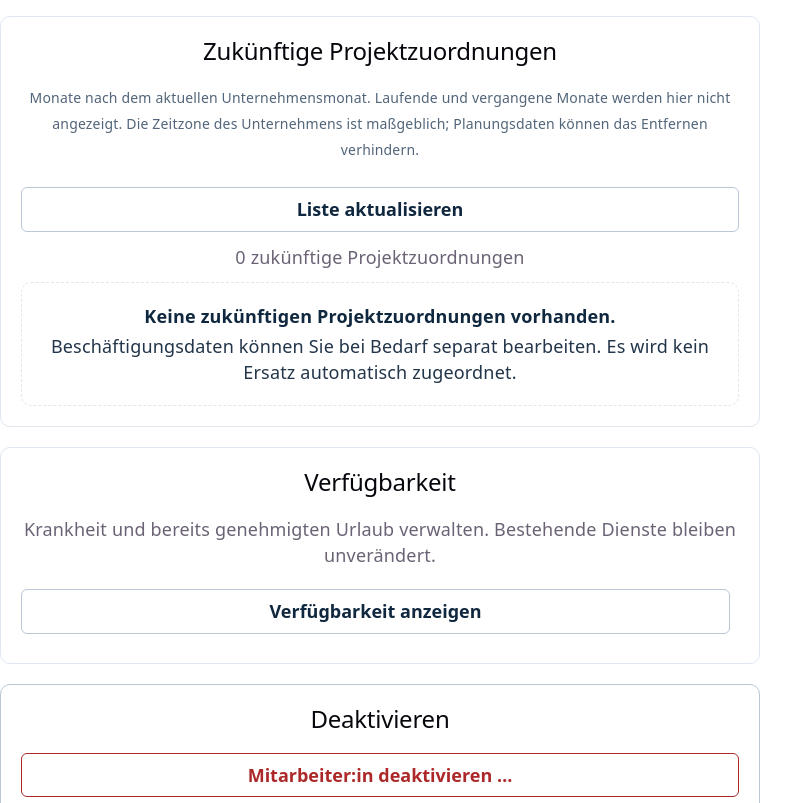
SP-07 — employee detail › confirmed deactivation updates the status, removes the action and moves focus to the result
(page scrolled)
Click the button "Mitarbeiter:in deaktivieren …": {"x": 380, "y": 775} [21,753,739,797]
(page scrolled)
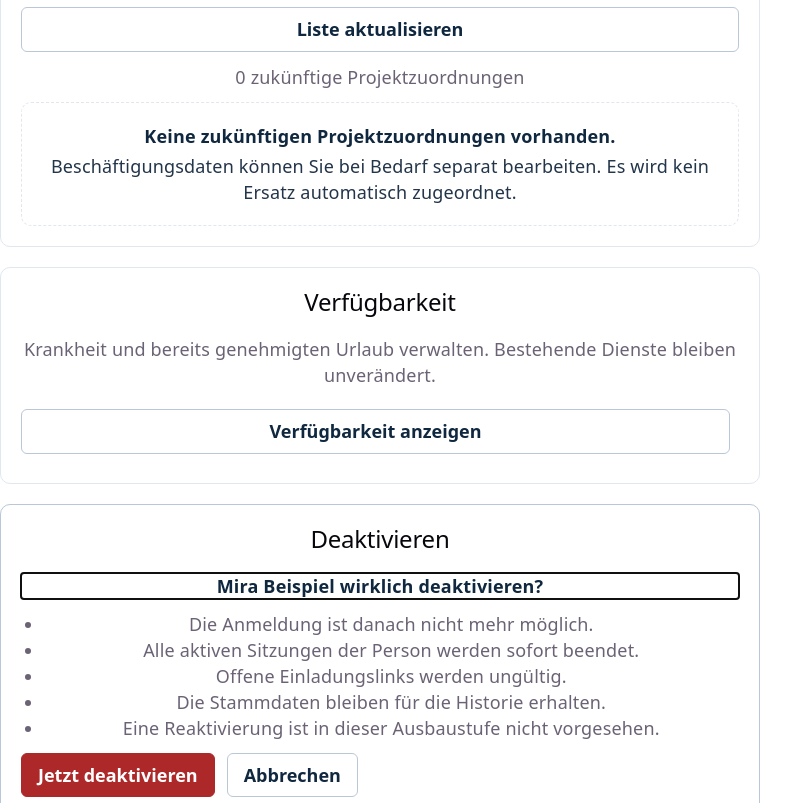
Click the button "Jetzt deaktivieren": {"x": 118, "y": 775} [21,753,215,798]
(page scrolled)
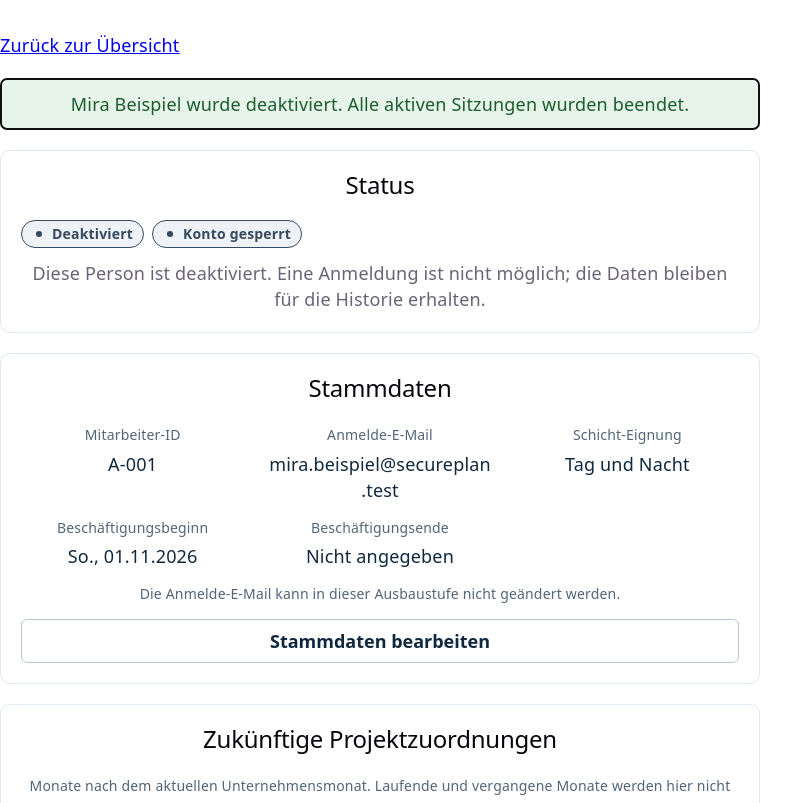
Expected: the element "Status" shows "Deaktiviert", [52,224,133,243]
Expected: the element "Status" shows "Konto gesperrt", [183,224,291,243]
Expected: the heading "Deaktivieren" is gone
